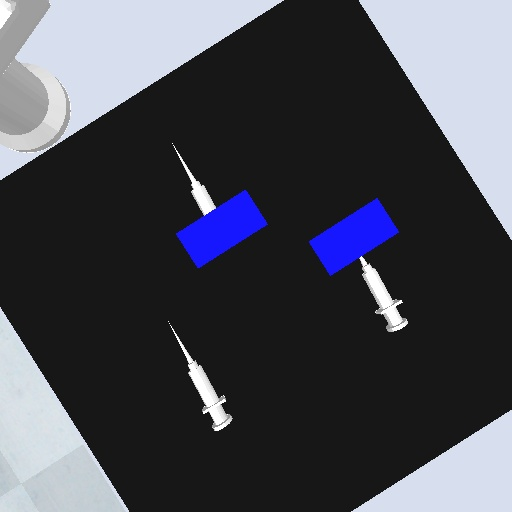jeringuilla: (165, 316, 237, 434), (357, 254, 412, 336), (169, 140, 218, 218)
